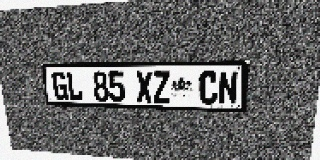5: (108, 71, 125, 102)
8: (92, 71, 109, 102)
C: (199, 71, 218, 105)
G: (51, 71, 68, 101)
L: (66, 71, 83, 101)
N: (218, 71, 238, 105)
X: (135, 71, 153, 103)
Z: (153, 71, 170, 103)
